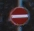No entry: (6, 5, 29, 26)
